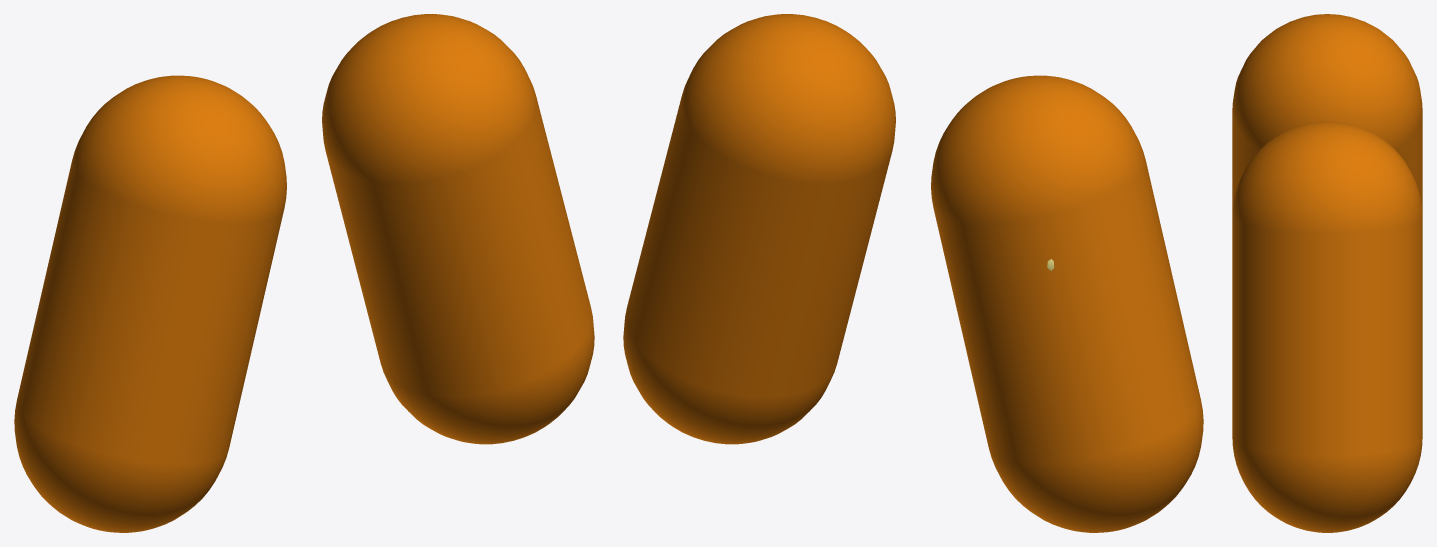
Rendered from thyroid_glands.glb.
3 renders of one model, left to right at view 1: azimuth 30°, elevation 25°; view 2: azimuth 150°, elevation 25°; view 3: azimuth 270°, elevation 25°, orthographic. The views are drawn at different scales.
Parts seen in each view (by area): view 1: Thyroid, Thyroid_R; view 2: Thyroid, Thyroid_R; view 3: Thyroid_R, Thyroid.
Boxes of the visible parts, box(x1,y1,x2,y2) form: Thyroid: box(14, 75, 286, 532); Thyroid_R: box(322, 14, 594, 444); Thyroid: box(931, 75, 1203, 532); Thyroid_R: box(623, 14, 895, 444); Thyroid_R: box(1232, 121, 1422, 532); Thyroid: box(1232, 14, 1422, 214).
Bounding box in the file's own units: 2.22 × 1.63 × 0.76.
